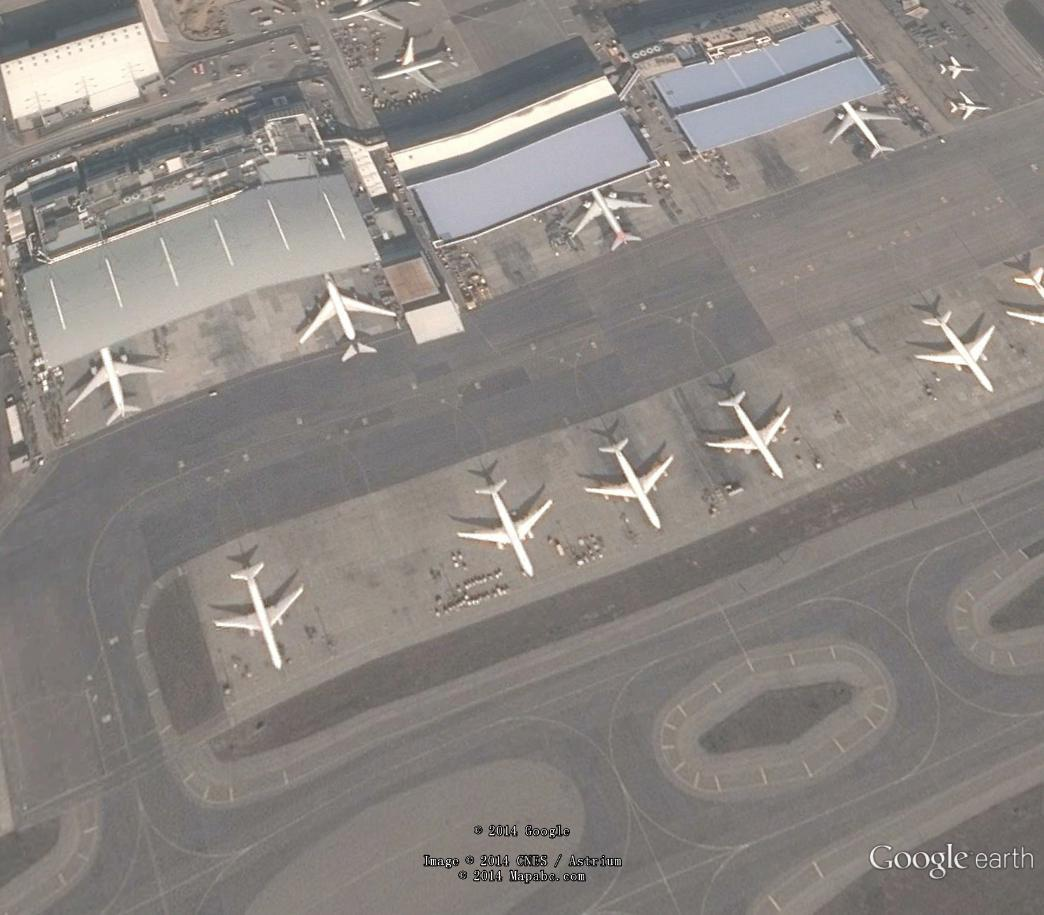aircraft: (208, 558, 309, 685), (454, 471, 558, 585), (294, 271, 400, 369), (580, 433, 681, 534), (699, 385, 801, 484), (910, 306, 1008, 403), (64, 343, 169, 429), (568, 181, 660, 259), (363, 36, 468, 96), (829, 99, 907, 160), (1003, 262, 1041, 342), (327, 6, 430, 31), (946, 88, 994, 126), (937, 54, 982, 81)
